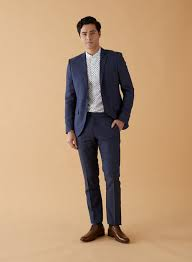F_M_suit jacket: (58, 46, 138, 141)
F_dress pants: (72, 107, 127, 229)
